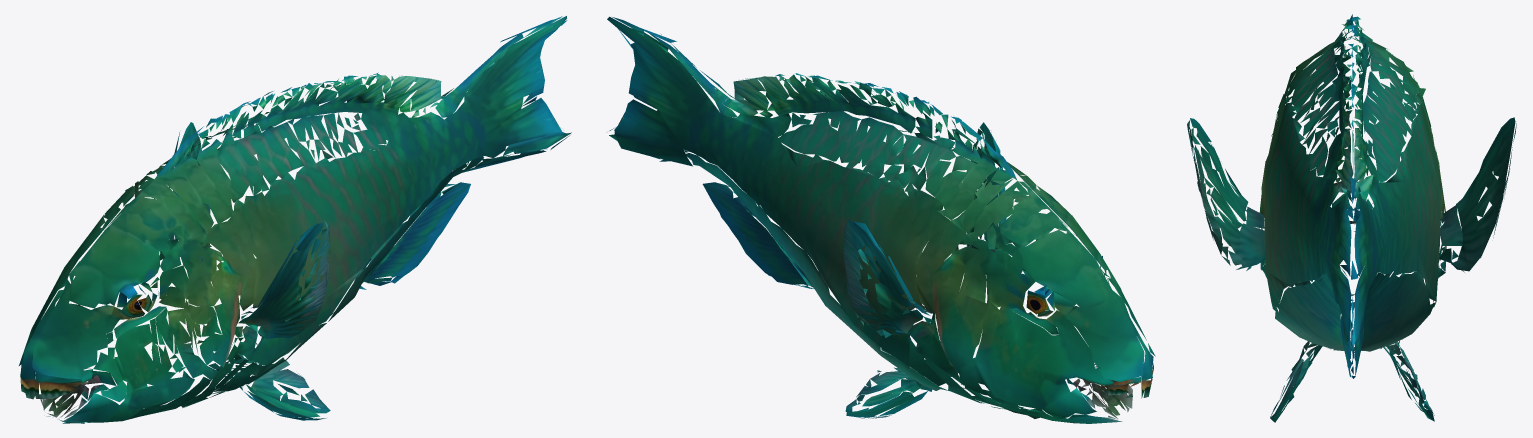
Rendered from parrot.glb.
3 renders of one model, left to right at view 1: azimuth 30°, elevation 25°; view 2: azimuth 150°, elevation 25°; view 3: azimuth 270°, elevation 25°, orthographic. The views are drawn at different scales.
Visible parts, largest first — view 1: tripo_node_57149716; view 2: tripo_node_57149716; view 3: tripo_node_57149716.
Boxes of the visible parts, bbox=[...] form: tripo_node_57149716: bbox=[19, 16, 571, 423]; tripo_node_57149716: bbox=[607, 16, 1155, 423]; tripo_node_57149716: bbox=[1187, 14, 1516, 422].
Size of the model in its own units: 97.57 by 53.3 by 41.82.
Materials: 1 (1 with a texture image).
